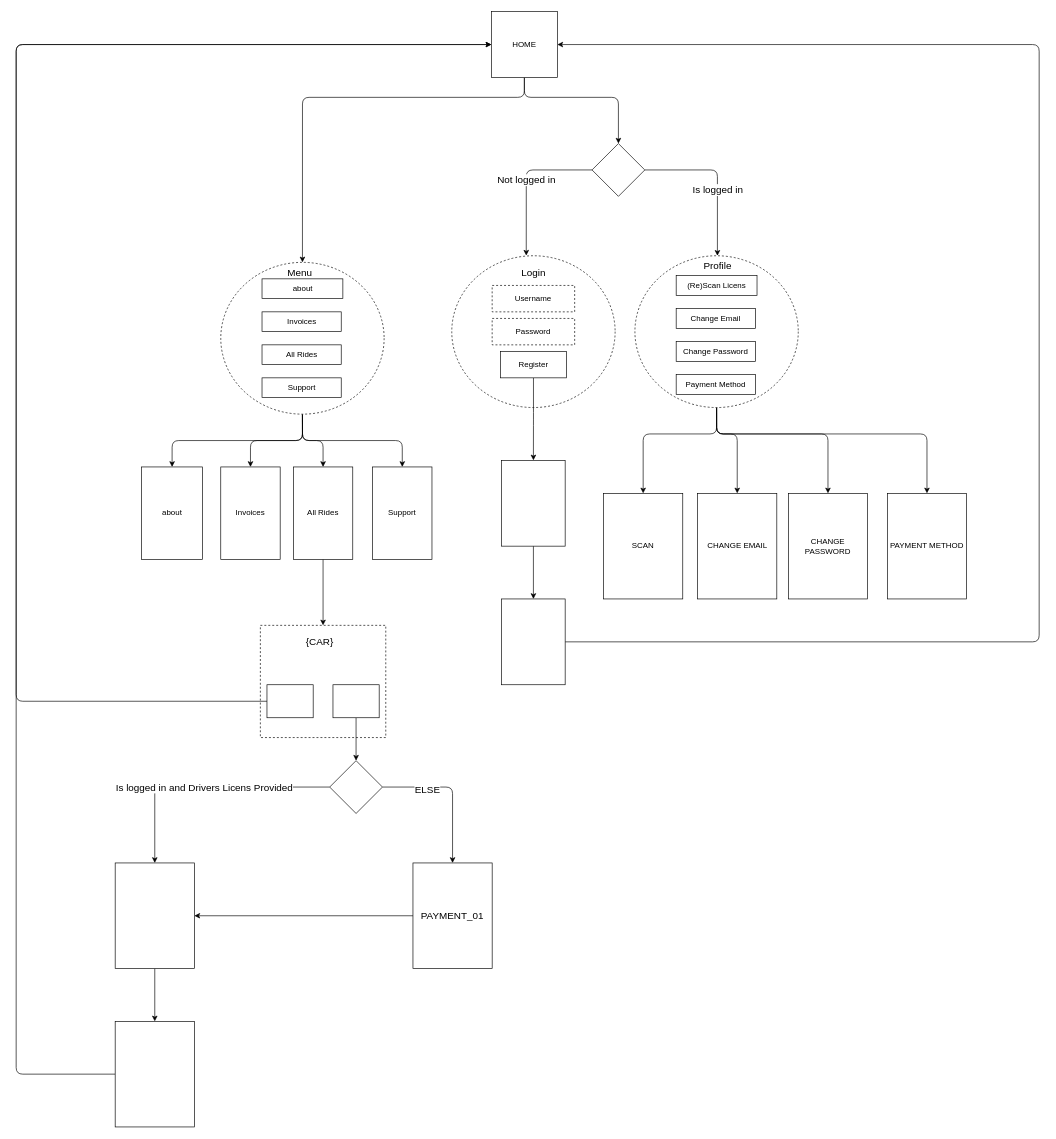
Image size: 1056x1139. Some labels were removed from this diagram. Here are the shapes that lost their labels. From the top down, the centre of each, then its label:
At (533,503): "REGISTER_01".
At (533,641): "REGISTER_02".
At (289,701): "Show on Map".
At (355,701): "Reserve".
At (154,915): "PAYMENT_02".
At (154,1074): "CONFIRM".
